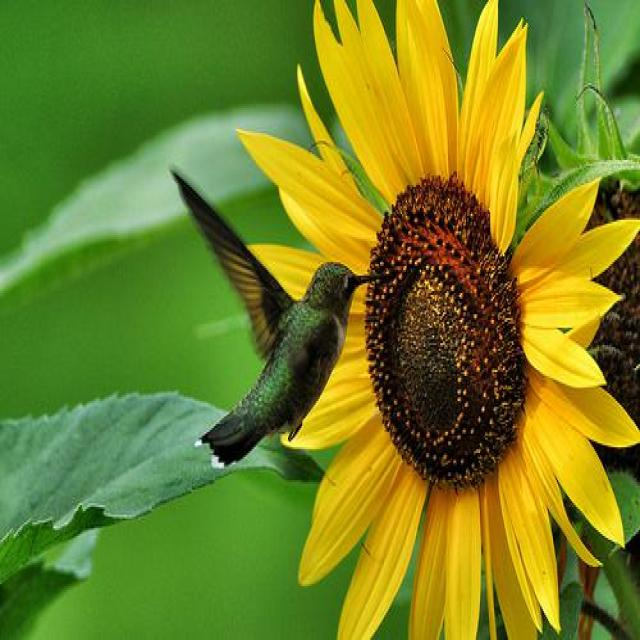sunflower: (233, 0, 637, 640)
